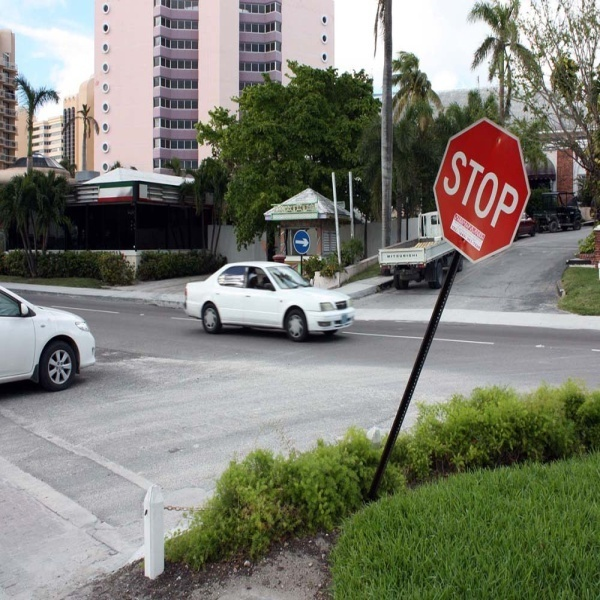stop: (424, 125, 536, 262)
